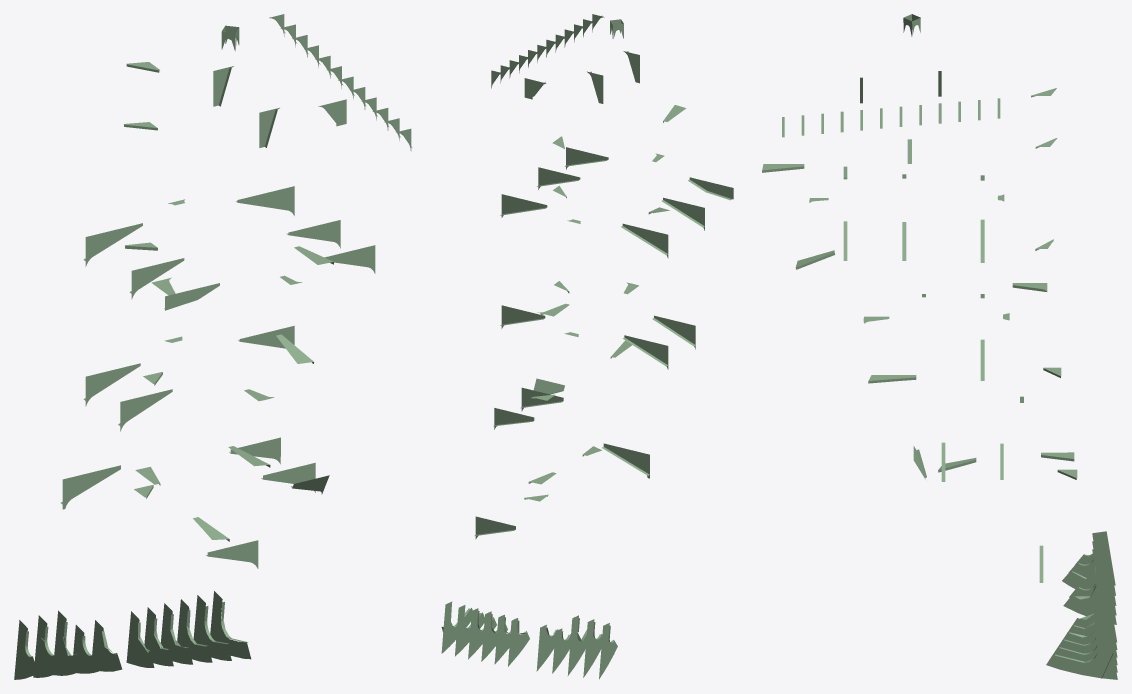
The model's file is CLEAN_SLOP_TK_SB.glb.
The picture shows the model from 3 angles, left to right: view 1: azimuth 30°, elevation 25°; view 2: azimuth 150°, elevation 25°; view 3: azimuth 270°, elevation 25°; orthographic projection. The views are drawn at different scales.
Parts seen in each view (by area): view 1: PL_OuterShellBracketxSlopTankS_003001-12_NVA_1993, PL_OuterShellBracketxSlopTankS_004001-12_NVA_1993, PL_OuterShellBracketxSlopTankS_005001-12_NVA_1993, PL_OuterShellBracketxSlopTankS_008001-12_NVA_1993, PL_OuterShellBracketxSlopTankS_009001-12_NVA_1993, PL_OuterShellBracketxSlopTankS_006001-12_NVA_1993, PL_OuterShellBracketxSlopTankS_007001-12_NVA_1993, PL_OuterShellBracketxSlopTankS_011001-12_NVA_1993, PL_OuterShellBracketxSlopTankS_013002-12_NVA_1993, PL_HG41BracketxSlopTankS_001004-12_NVA_1993, PL_HG54BracketxSlopTankS_004004-12_NVA_1993, PL_HG47BracketxSlopTankS_004006-12_NVA_1993 (+3 smaller); view 2: PL_OuterShellBracketxSlopTankS_003001-12_NVA_1993, PL_OuterShellBracketxSlopTankS_004001-12_NVA_1993, PL_OuterShellBracketxSlopTankS_008001-12_NVA_1993, PL_OuterShellBracketxSlopTankS_005001-12_NVA_1993, PL_OuterShellBracketxSlopTankS_009001-12_NVA_1993, PL_OuterShellBracketxSlopTankS_006001-12_NVA_1993, PL_OuterShellBracketxSlopTankS_007001-12_NVA_1993, PL_OuterShellBracketxSlopTankS_010001-12_NVA_1993, PL_OuterShellBracketxSlopTankS_013002-12_NVA_1993, PL_OuterShellBracketxSlopTankS_011001-12_NVA_1993; view 3: PL_OuterShellBracketxSlopTankS_003001-12_NVA_1993, PL_OuterShellBracketxSlopTankS_009001-12_NVA_1993, PL_OuterShellBracketxSlopTankS_011001-12_NVA_1993.
Part boxes in pixels (bbox=[...]): PL_OuterShellBracketxSlopTankS_003001-12_NVA_1993: bbox=[210, 591, 251, 659]; PL_OuterShellBracketxSlopTankS_004001-12_NVA_1993: bbox=[193, 595, 231, 660]; PL_OuterShellBracketxSlopTankS_005001-12_NVA_1993: bbox=[177, 599, 212, 662]; PL_OuterShellBracketxSlopTankS_008001-12_NVA_1993: bbox=[126, 611, 154, 667]; PL_OuterShellBracketxSlopTankS_009001-12_NVA_1993: bbox=[92, 620, 122, 671]; PL_OuterShellBracketxSlopTankS_006001-12_NVA_1993: bbox=[160, 603, 192, 664]; PL_OuterShellBracketxSlopTankS_007001-12_NVA_1993: bbox=[144, 607, 173, 666]; PL_OuterShellBracketxSlopTankS_011001-12_NVA_1993: bbox=[53, 629, 84, 675]; PL_OuterShellBracketxSlopTankS_013002-12_NVA_1993: bbox=[33, 634, 61, 677]; PL_HG41BracketxSlopTankS_001004-12_NVA_1993: bbox=[62, 472, 94, 509]; PL_HG54BracketxSlopTankS_004004-12_NVA_1993: bbox=[85, 229, 117, 266]; PL_HG47BracketxSlopTankS_004006-12_NVA_1993: bbox=[85, 369, 117, 406]; PL_OuterShellBracketxSlopTankS_003001-12_NVA_1993: bbox=[441, 601, 472, 653]; PL_OuterShellBracketxSlopTankS_004001-12_NVA_1993: bbox=[455, 605, 484, 656]; PL_OuterShellBracketxSlopTankS_008001-12_NVA_1993: bbox=[508, 618, 529, 666]; PL_OuterShellBracketxSlopTankS_005001-12_NVA_1993: bbox=[468, 608, 496, 659]; PL_OuterShellBracketxSlopTankS_009001-12_NVA_1993: bbox=[536, 624, 558, 671]; PL_OuterShellBracketxSlopTankS_006001-12_NVA_1993: bbox=[481, 611, 507, 661]; PL_OuterShellBracketxSlopTankS_007001-12_NVA_1993: bbox=[494, 614, 510, 664]; PL_OuterShellBracketxSlopTankS_010001-12_NVA_1993: bbox=[552, 628, 570, 673]; PL_OuterShellBracketxSlopTankS_013002-12_NVA_1993: bbox=[583, 634, 602, 677]; PL_OuterShellBracketxSlopTankS_011001-12_NVA_1993: bbox=[567, 632, 586, 675]; PL_OuterShellBracketxSlopTankS_003001-12_NVA_1993: bbox=[1046, 630, 1117, 679]; PL_OuterShellBracketxSlopTankS_009001-12_NVA_1993: bbox=[1063, 580, 1116, 624]; PL_OuterShellBracketxSlopTankS_011001-12_NVA_1993: bbox=[1062, 564, 1116, 605].
Bounding box in the file's own units: 10.02 × 31.45 × 16.33.
